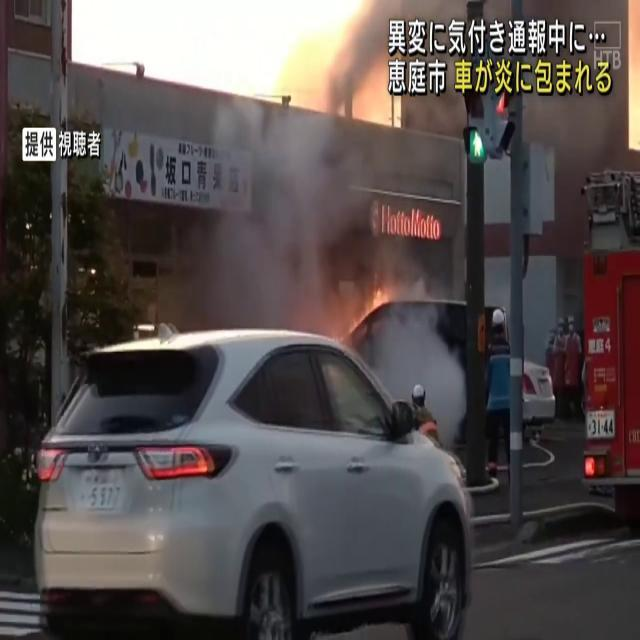Fire: (242, 0, 392, 116)
Smoke: (204, 0, 436, 324), (373, 292, 469, 442)
